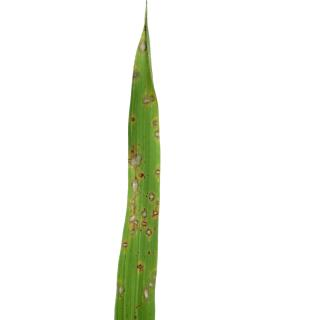Blast: (130, 178, 139, 230), (129, 143, 142, 171), (150, 119, 161, 145), (144, 284, 151, 307), (143, 92, 154, 106), (138, 40, 146, 56), (145, 227, 152, 242), (149, 188, 155, 204), (141, 209, 148, 222), (131, 114, 137, 125), (153, 207, 158, 219), (154, 167, 160, 177), (123, 241, 129, 250), (138, 173, 144, 180), (140, 262, 144, 272)
